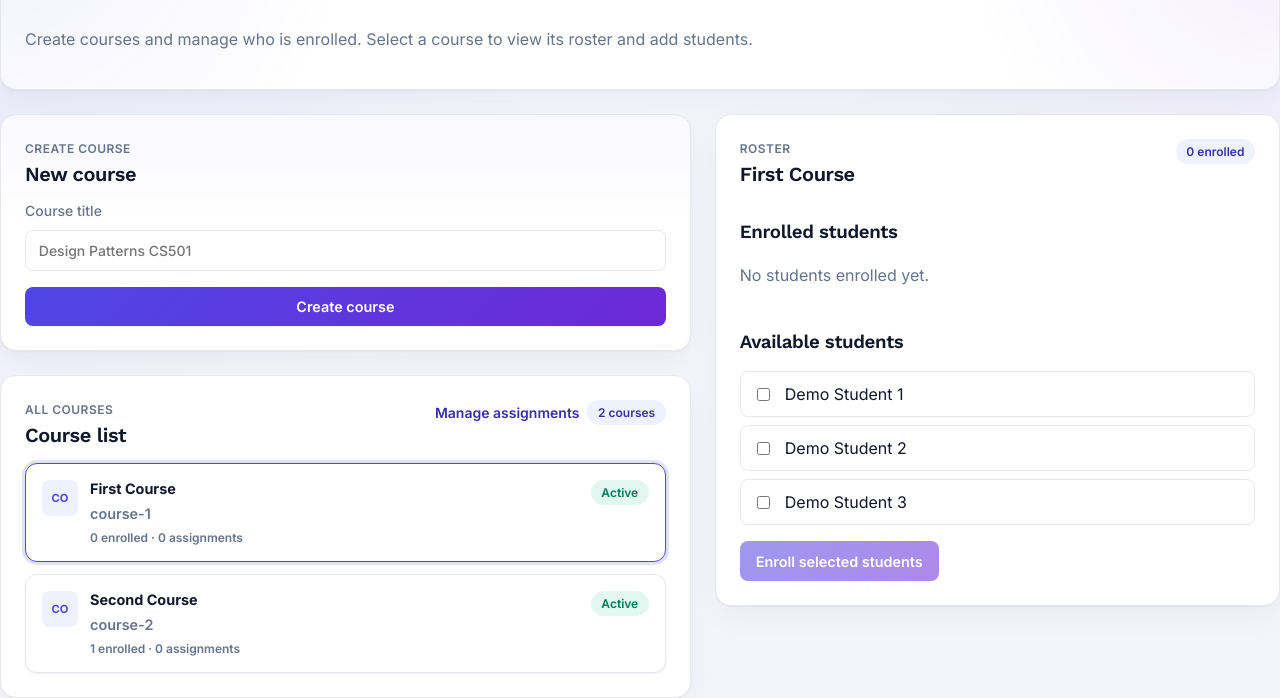
Test: CoursesPage › loads roster data for a selected course
(page scrolled)
Expected: the text "First Course" is shown, [90, 480, 176, 497]
What coordinates should you click on to do the following:
click the button "CO Second Course course-2 1 enrolled · 0 assignments Active"
I would click on:
 (60, 609)
Its box is [25, 574, 666, 673].
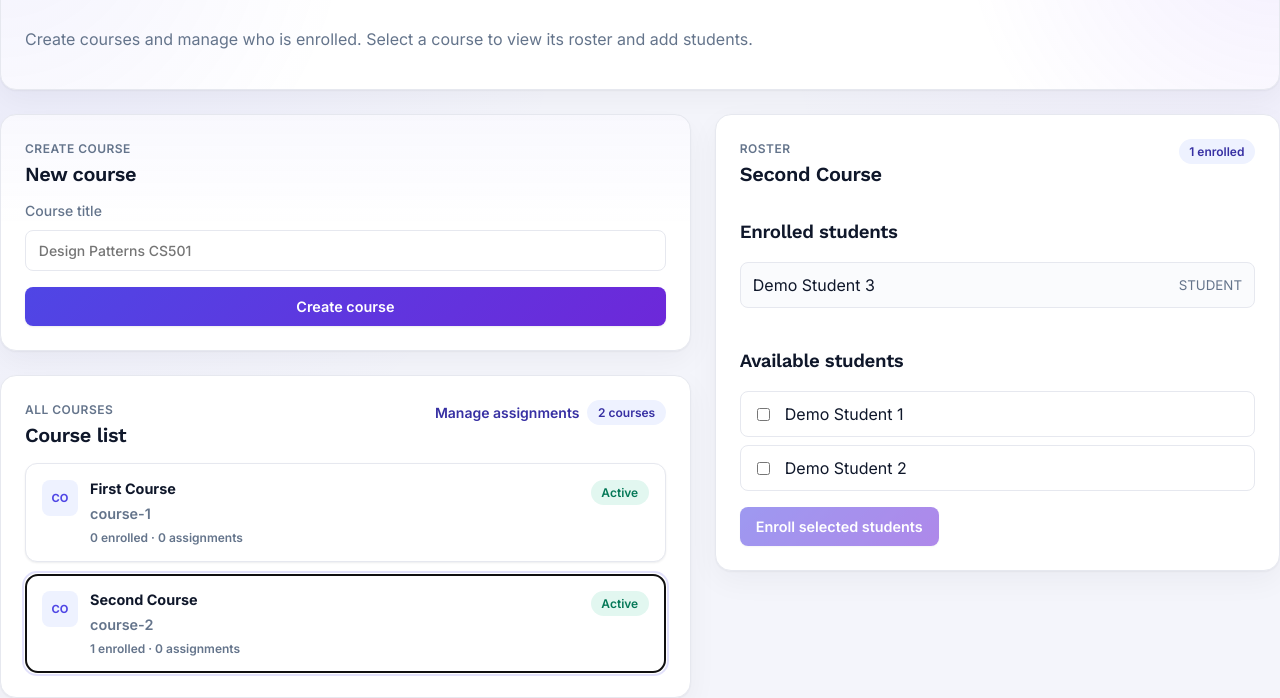
Expected: the element named "Available students" shows "Demo Student 1", [785, 404, 904, 424]
Expected: the heading "Second Course" is shown, [740, 162, 882, 186]
Expected: the text "Demo Student 3" is shown, [753, 275, 875, 295]
